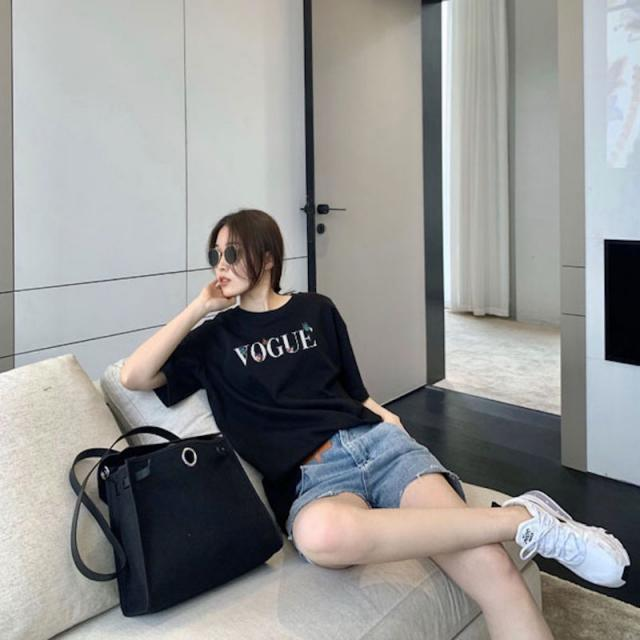Shirt: (156, 294, 388, 476)
